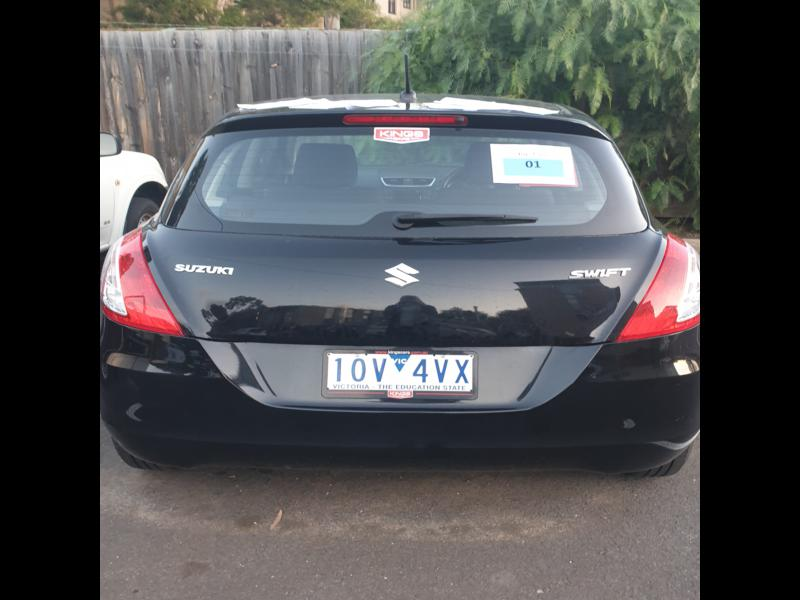BusRun: (502, 157, 566, 180)
PlateNo: (323, 352, 474, 392)
